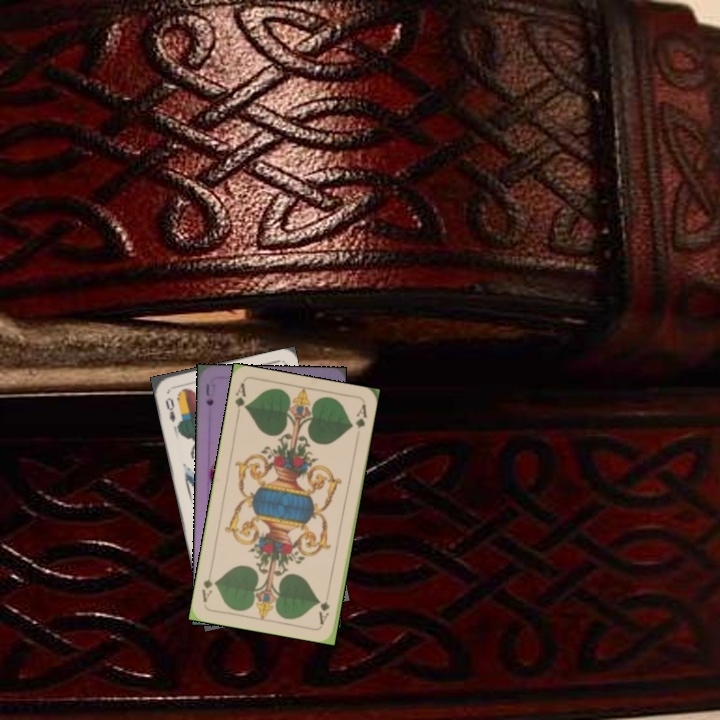EO: (161, 393, 178, 424)
GA: (231, 379, 250, 420), (315, 597, 332, 627)
SU: (202, 380, 217, 408)
